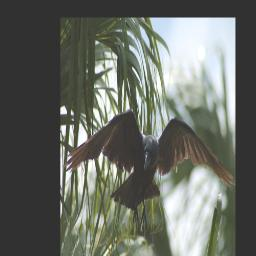Crow: (65, 107, 235, 230)
